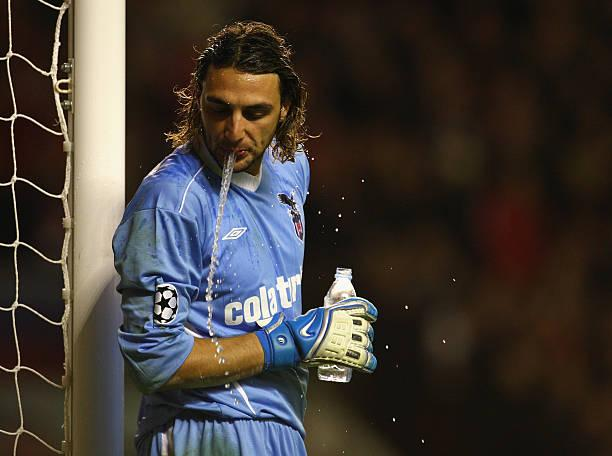Spitting: (132, 15, 351, 188)
